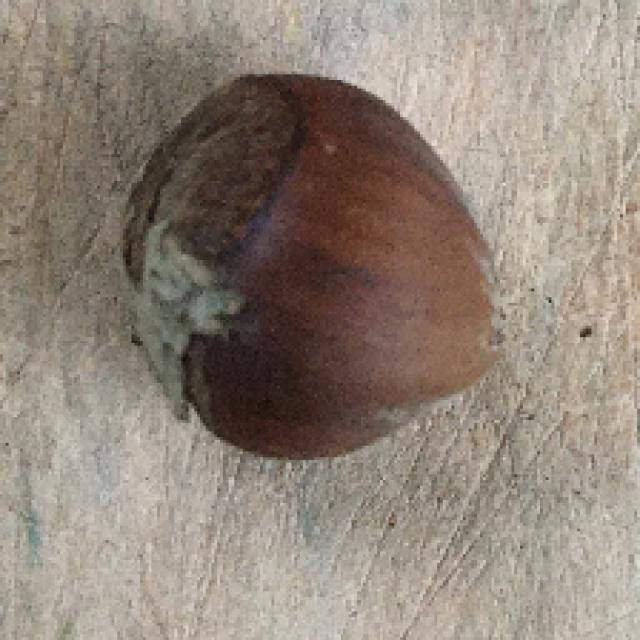damagedHazelnut: (130, 70, 516, 468)
